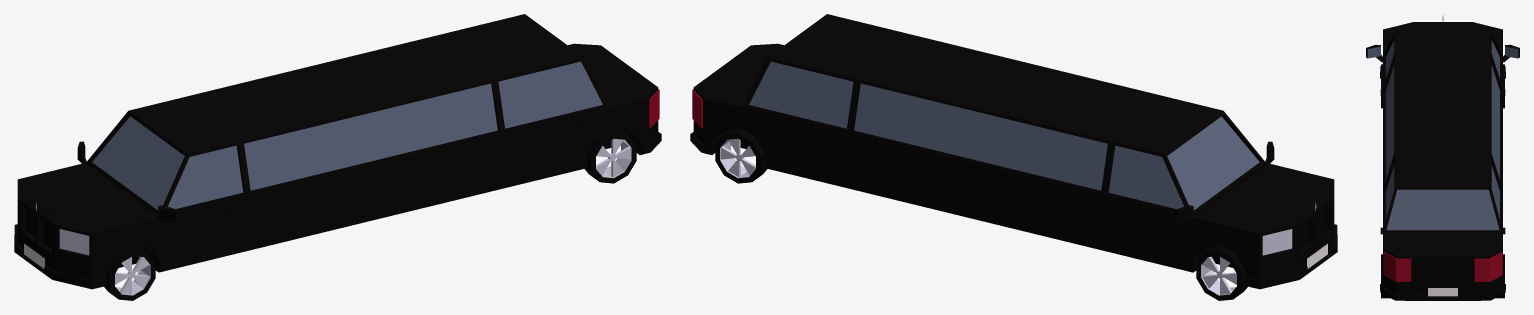
Rendered from limousine.glb.
3 views of the same model, side by side, from view 1: azimuth 30°, elevation 25°; view 2: azimuth 150°, elevation 25°; view 3: azimuth 270°, elevation 25° (orthographic). The views are drawn at different scales.
Parts seen in each view (by area): view 1: chassis, blwheel, flwheel; view 2: chassis, brwheel, frwheel; view 3: chassis.
Boxes of the visible parts, x1,y1,x2,y2 form: chassis: [14, 14, 661, 289]; blwheel: [584, 126, 636, 183]; flwheel: [104, 244, 155, 300]; chassis: [690, 14, 1337, 289]; brwheel: [715, 126, 767, 183]; frwheel: [1196, 244, 1247, 300]; chassis: [1366, 15, 1519, 300].
Bounding box in the file's own units: 10.24 × 2.04 × 2.81.
